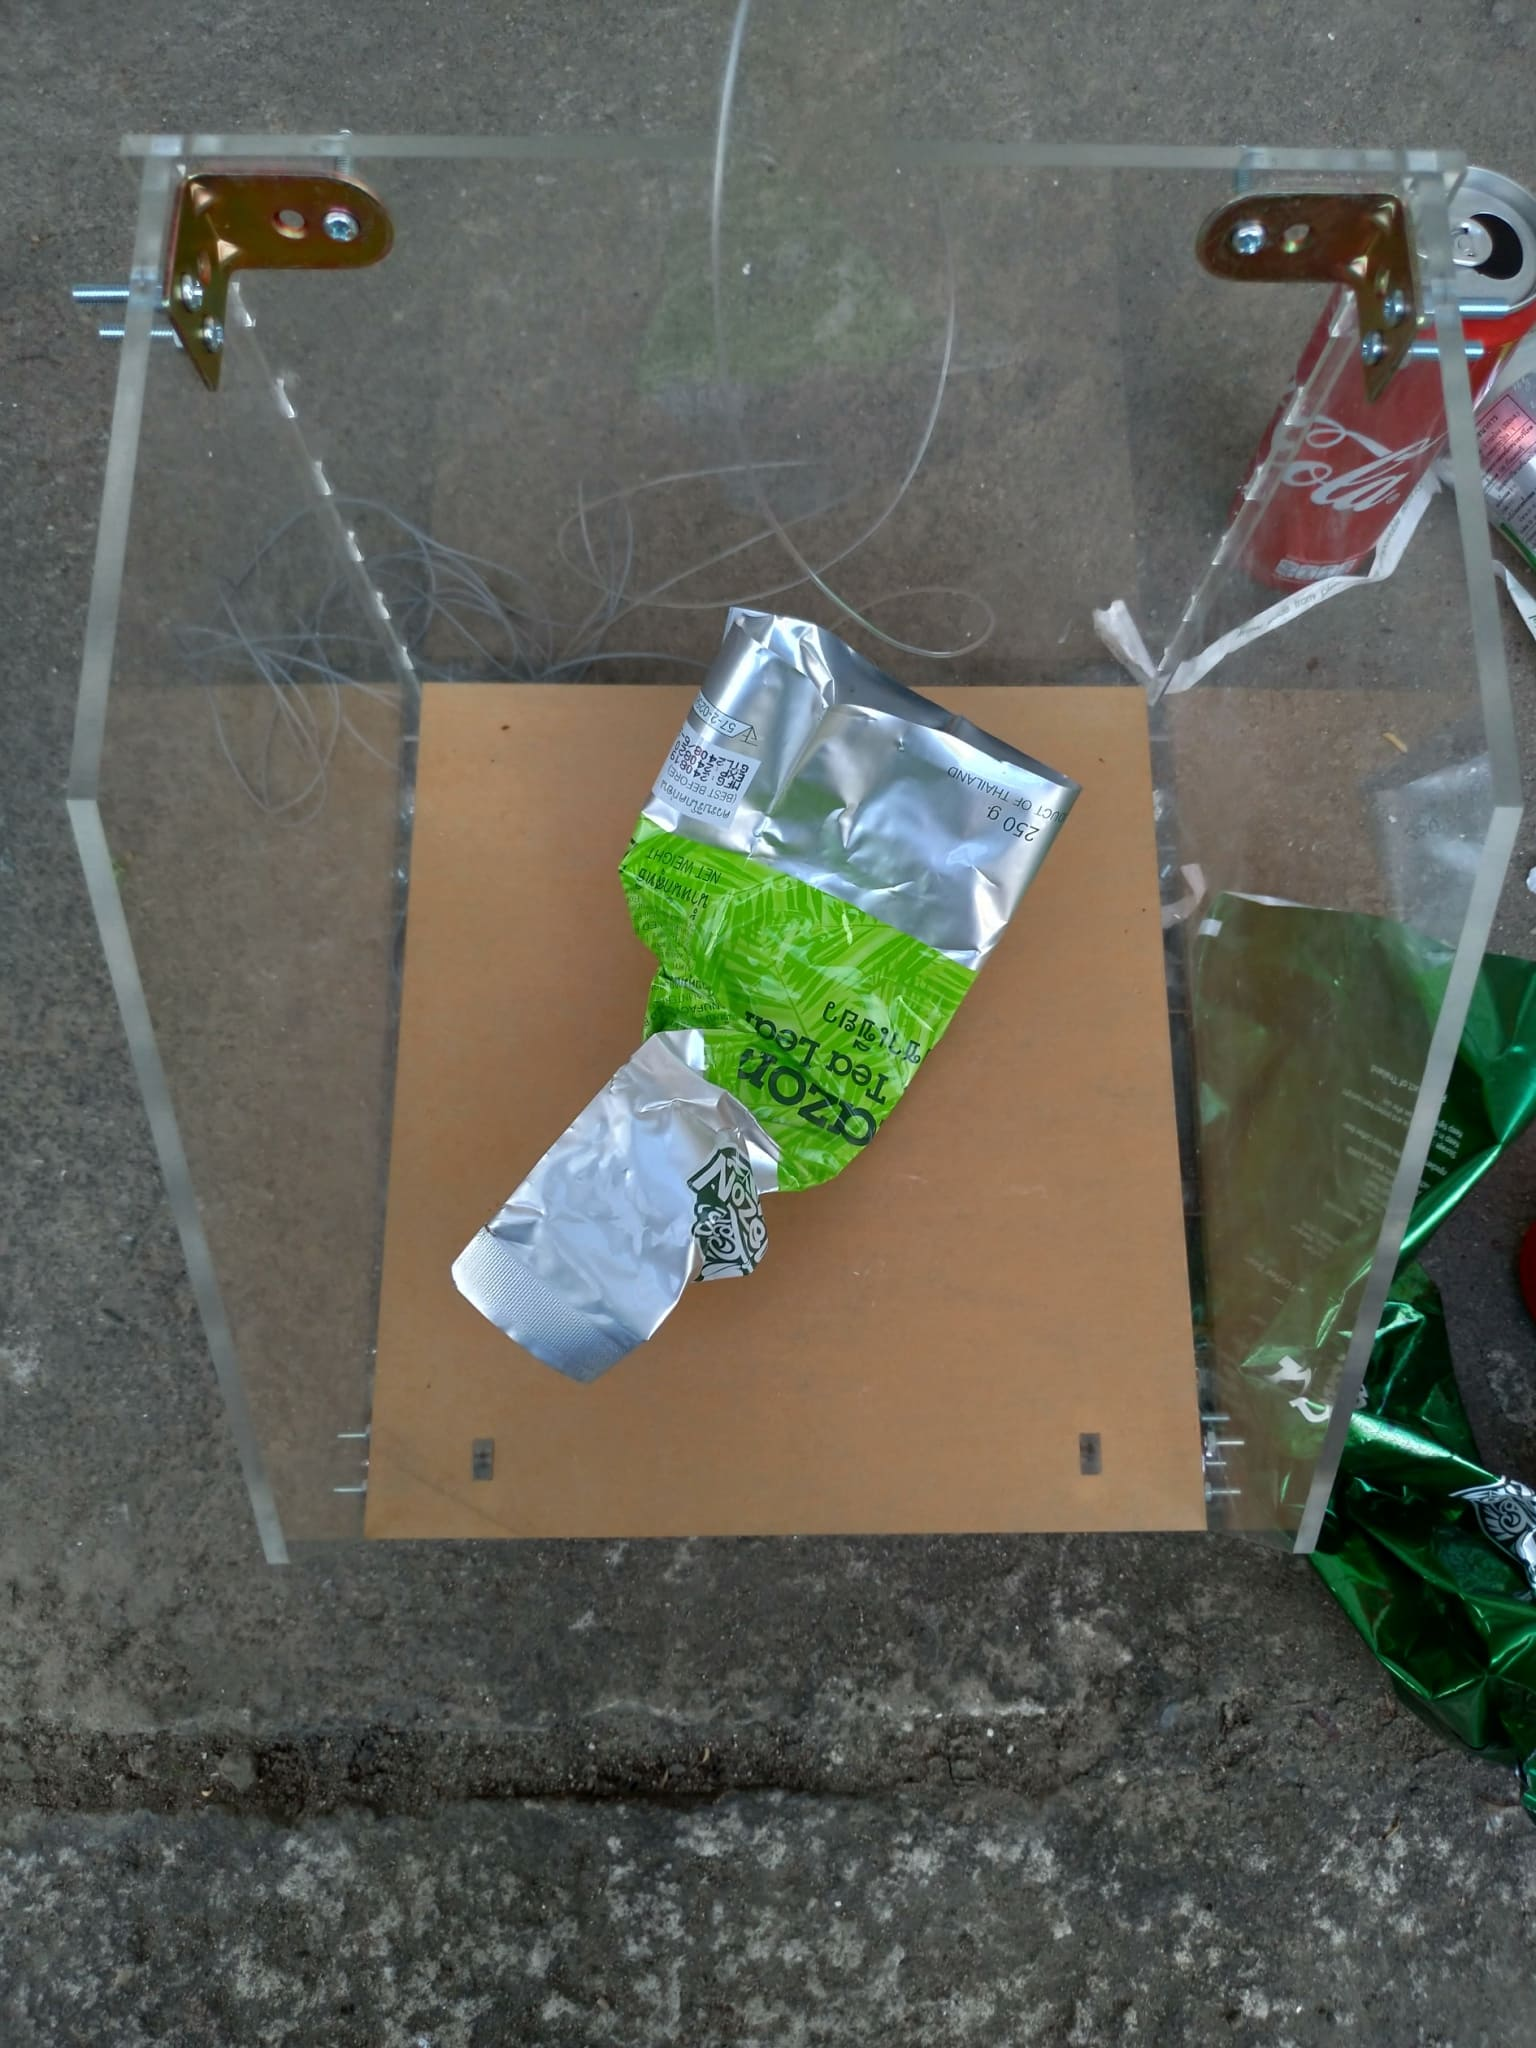AlCan: (1221, 152, 1536, 589)
Others: (444, 595, 1066, 1380), (1191, 885, 1536, 1772)
